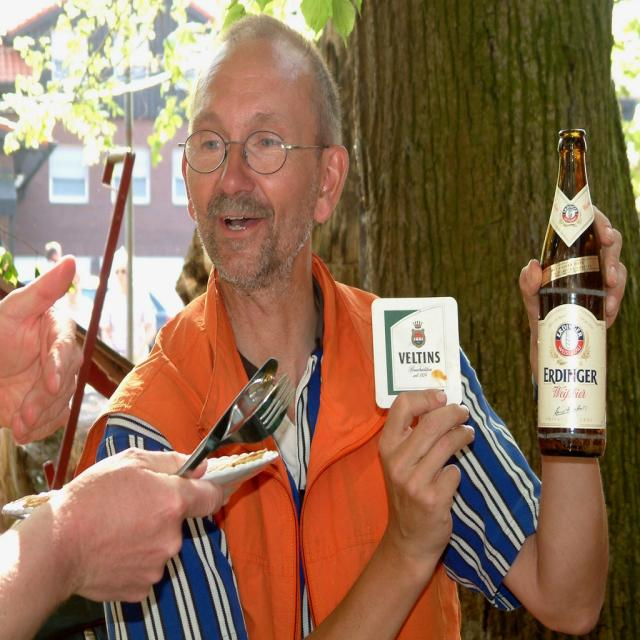erdinger: (540, 313, 604, 390), (563, 203, 581, 226)
